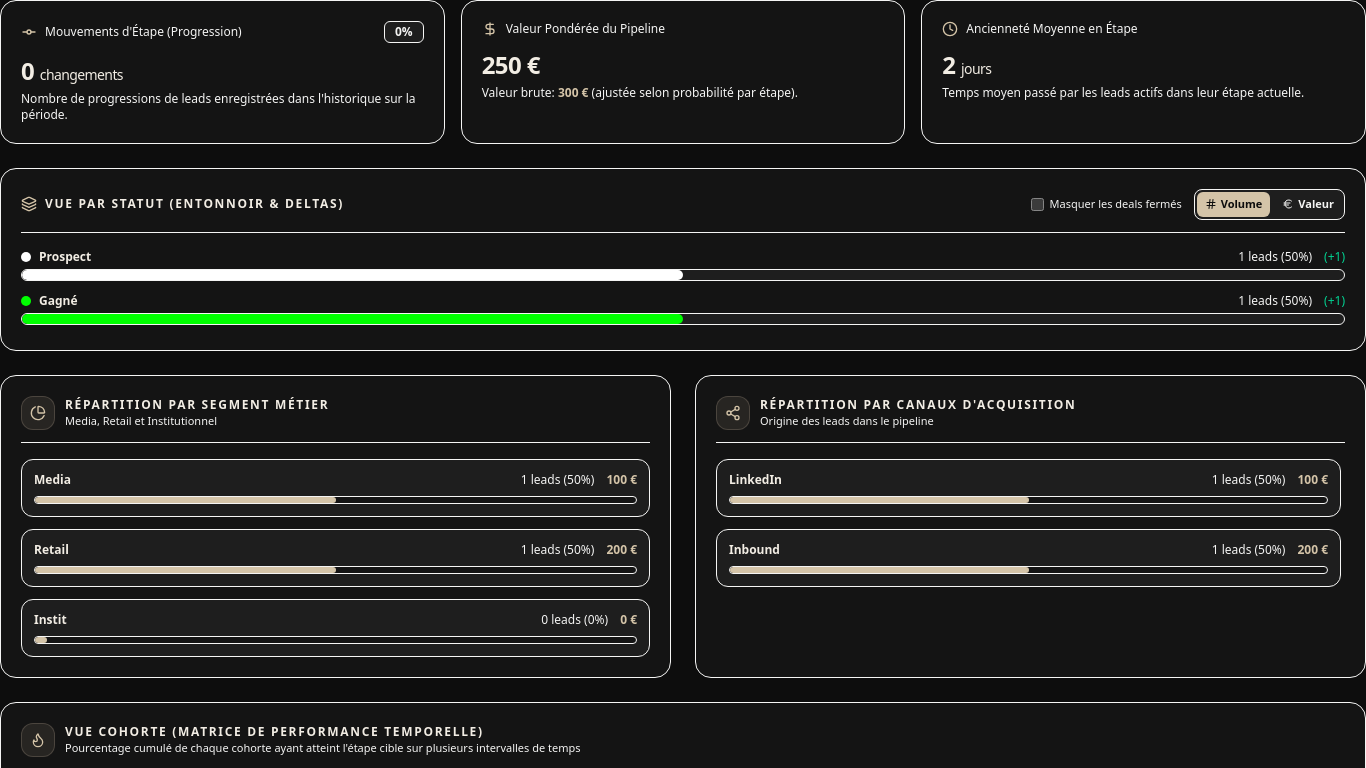
Test: DashboardPipelineTab › toggles between Volume and Valeur display for the funnel
The width and height of the screenshot is (1366, 768).
Expected: the 1st text "1 leads (50%)" is shown, left=1238, top=248, right=1312, bottom=264
Click the button "Valeur".
click(1308, 204)  # box left=1274, top=192, right=1342, bottom=216
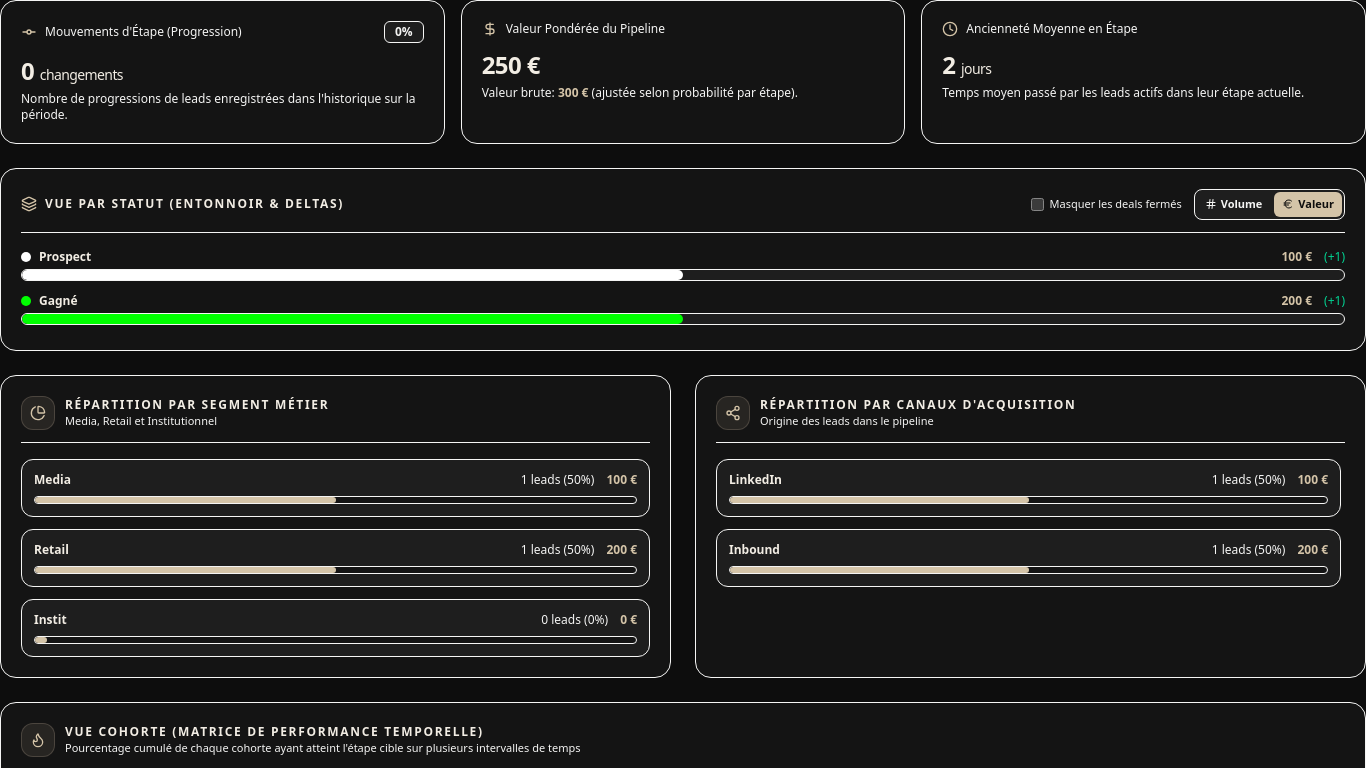
Now the text "100 €" below "Masquer les deals fermés" is shown, box left=1282, top=248, right=1312, bottom=264
